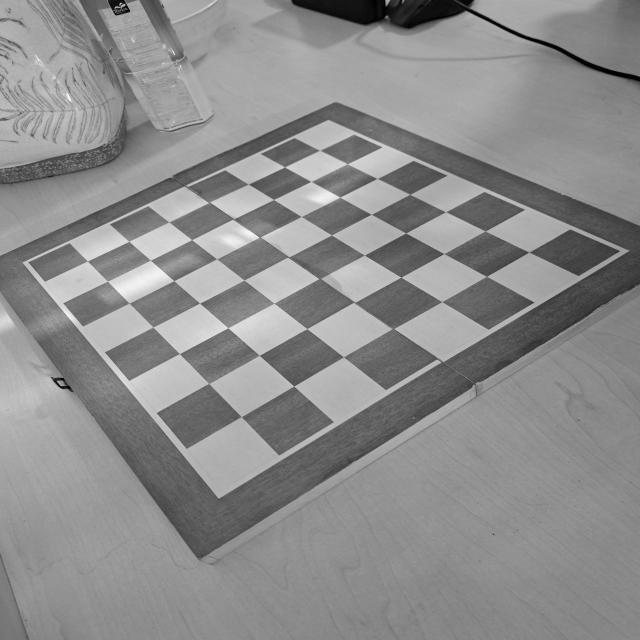chess-table-corners: (206, 481, 236, 502), (606, 242, 631, 260), (18, 256, 40, 270), (320, 116, 337, 128)
